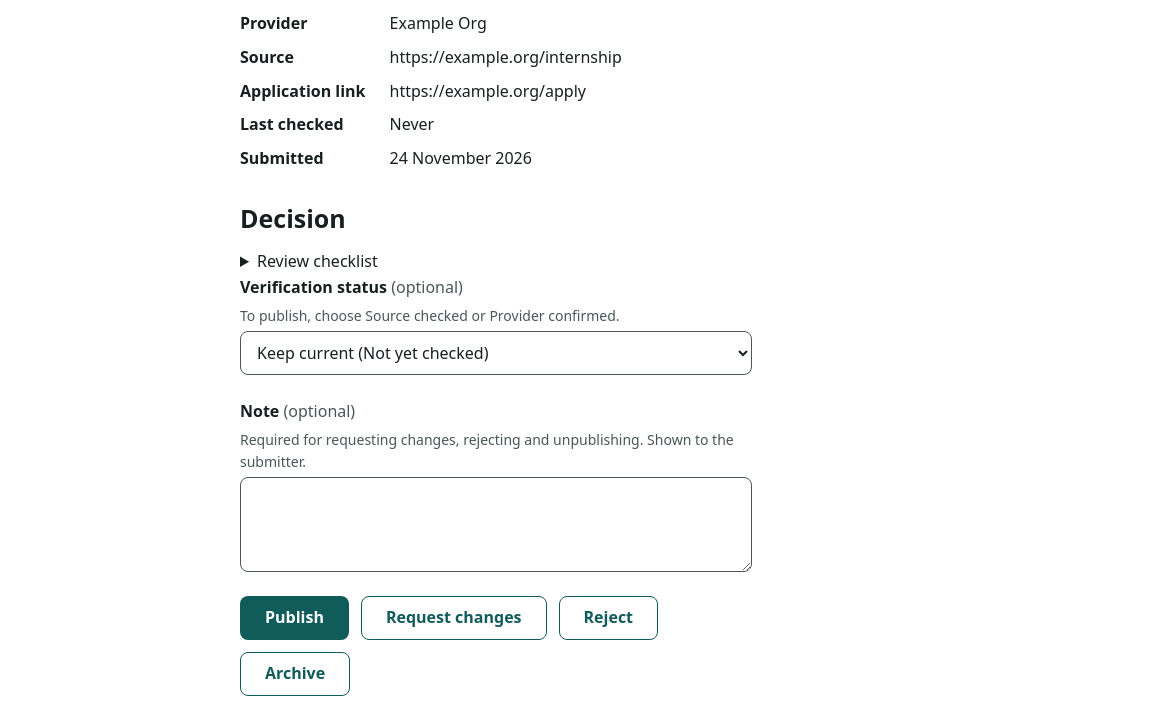
Test: review decisions (FR-010) › sends the publish decision with the chosen verification status
(page scrolled)
Select "Source checked" in the dropdown labelled "Verification status (optional)". click: [496, 353]
box: [240, 331, 752, 375]
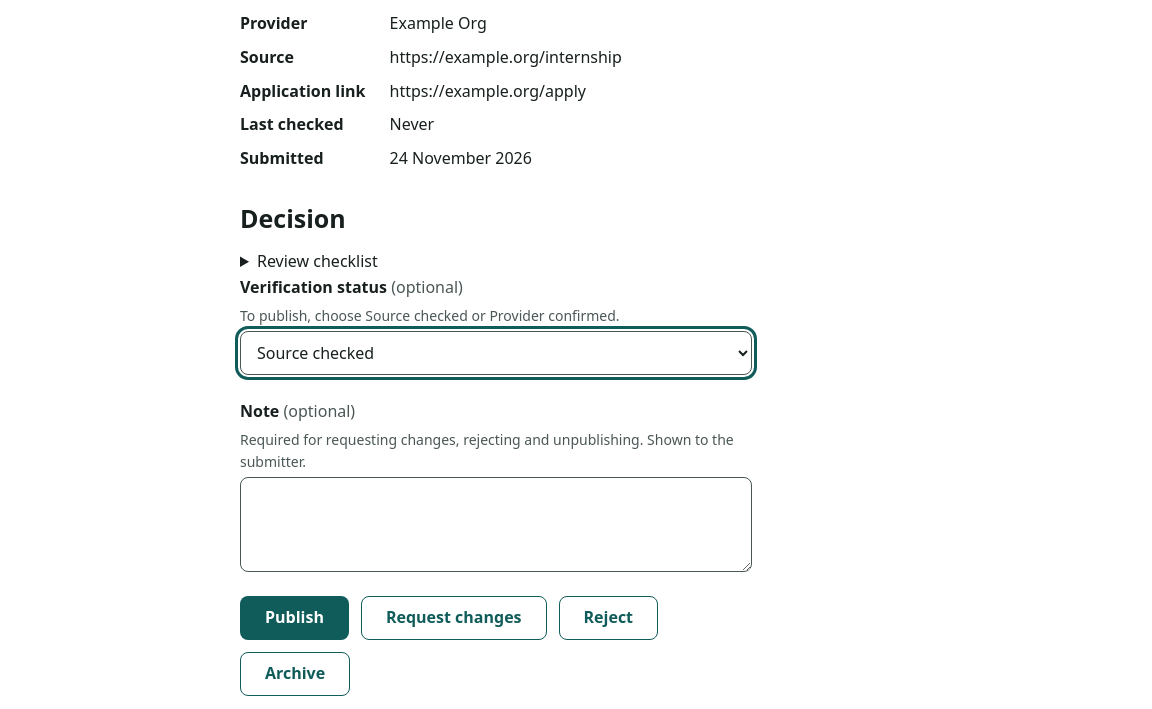
Type "Checked on provider site" into the text box labelled "Note (optional)". click: [496, 525]
box: [240, 477, 752, 572]
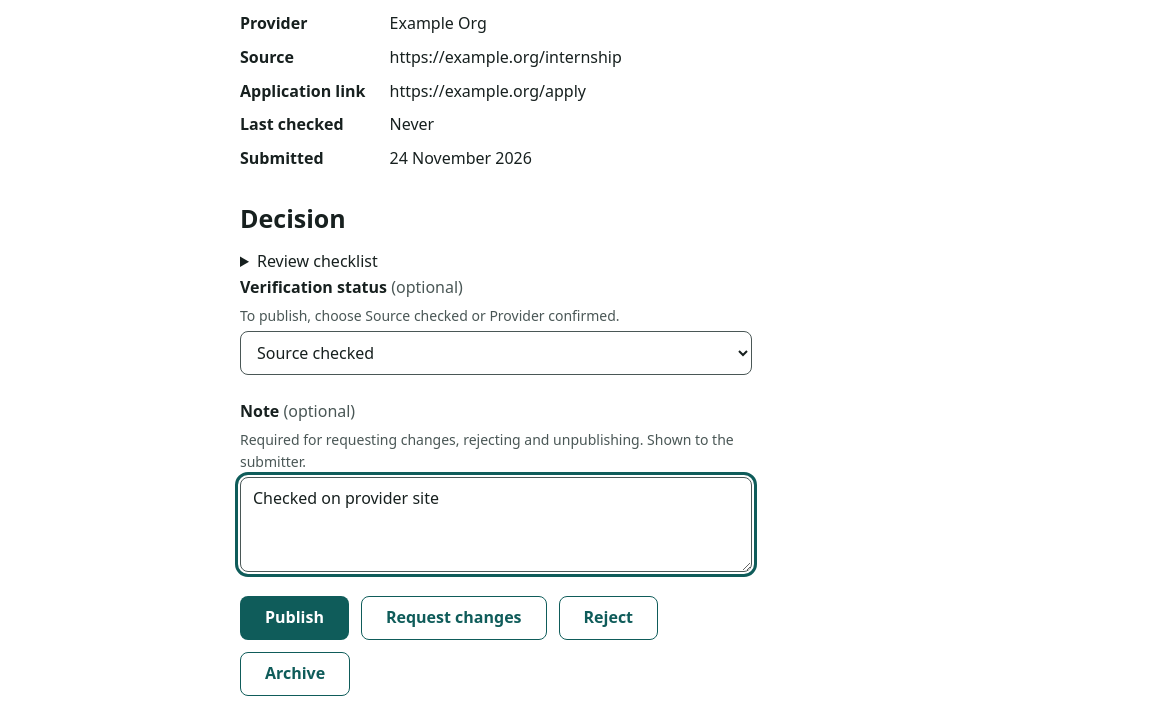
Click the button "Publish". click: [294, 618]
box: [240, 596, 349, 640]
(page scrolled)
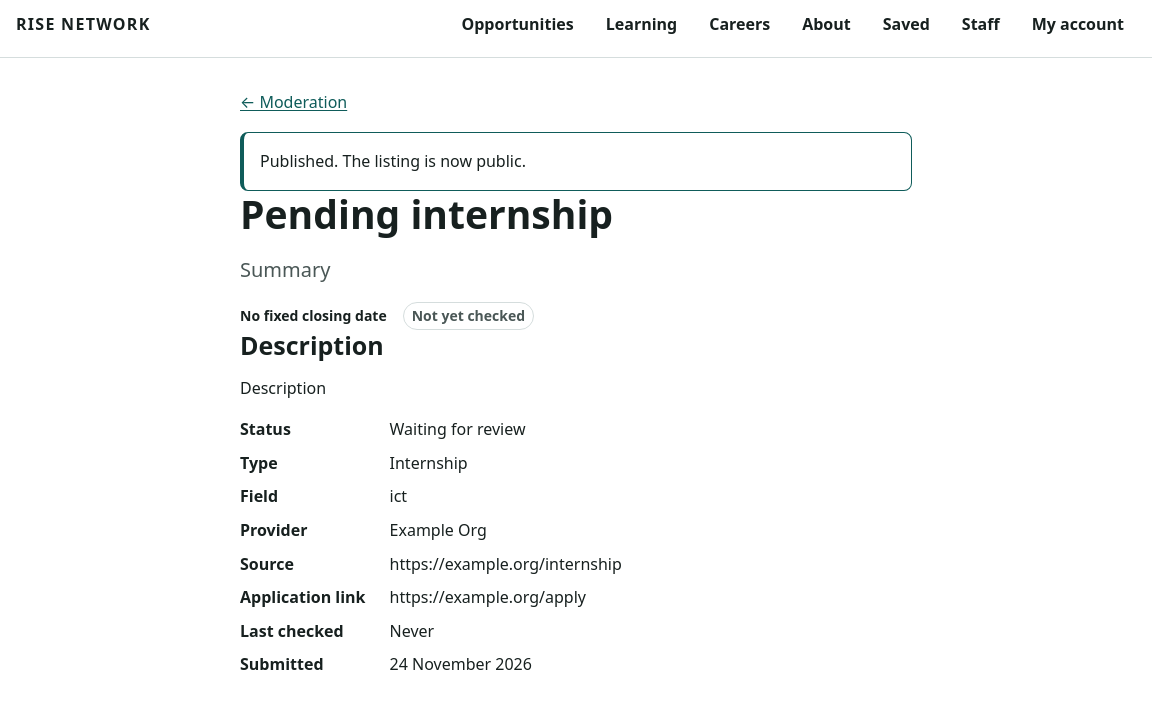
Check: the text "Published. The listing is now public." is shown, box [240, 132, 912, 191]
